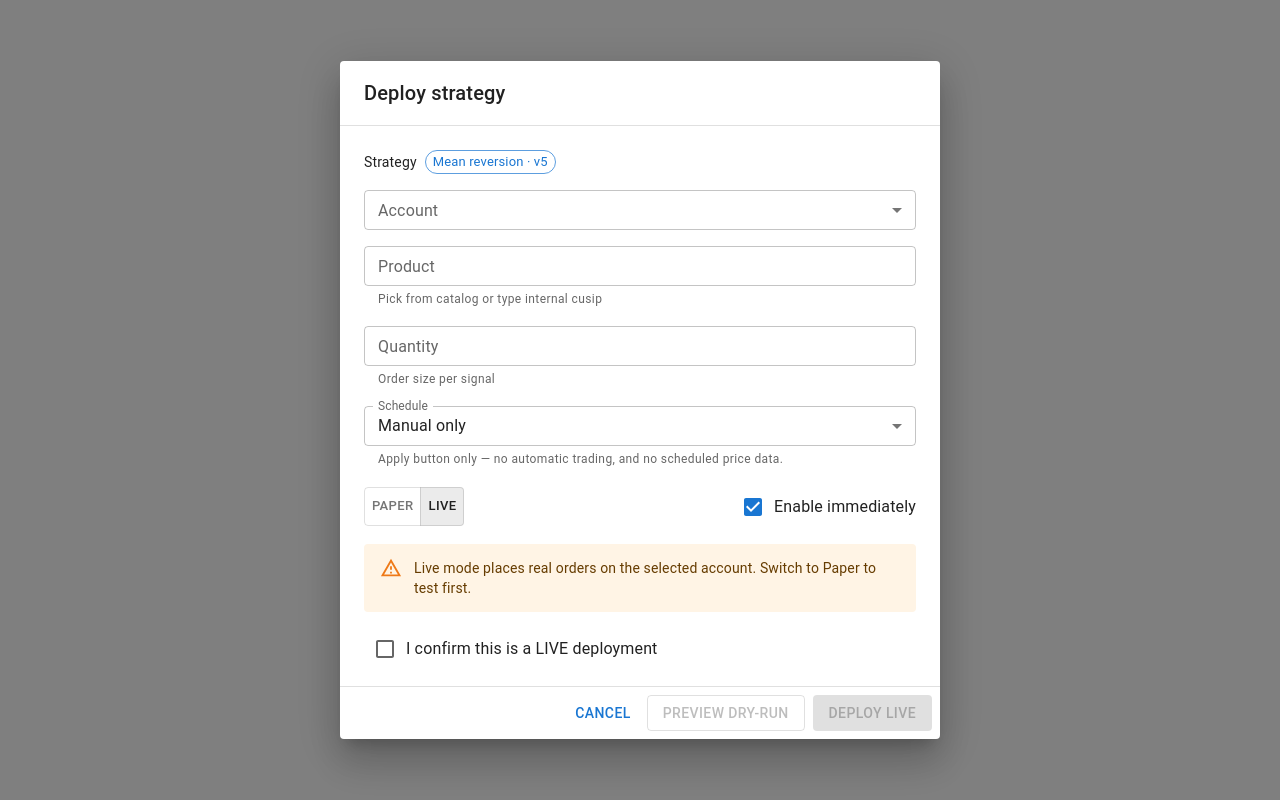
Test: DeploymentDialog schedule control › falls back to NAME when the database predates DISPLAY_NAME
The width and height of the screenshot is (1280, 800).
Click the dropdown named "Schedule": [422, 426] box [378,416,466,435]
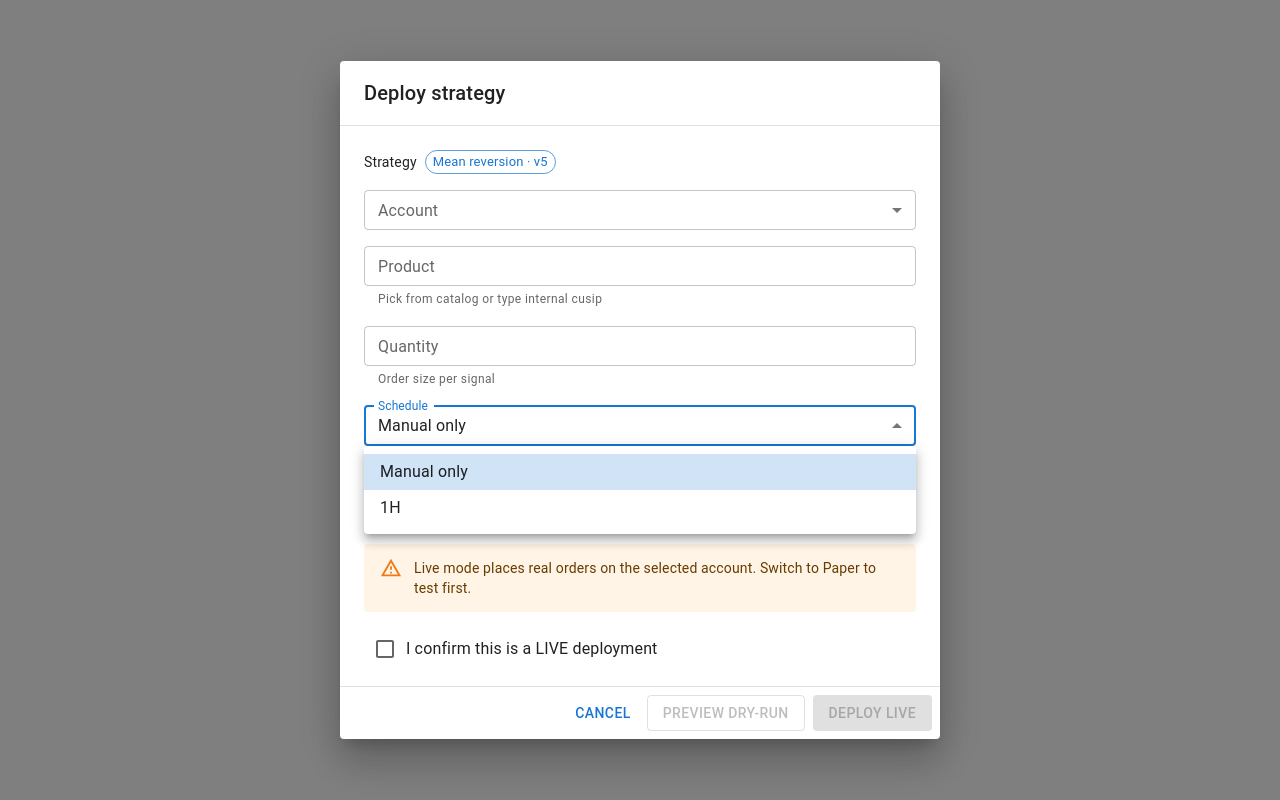
Now the option "1H" is shown, box [380,498,401,517]
